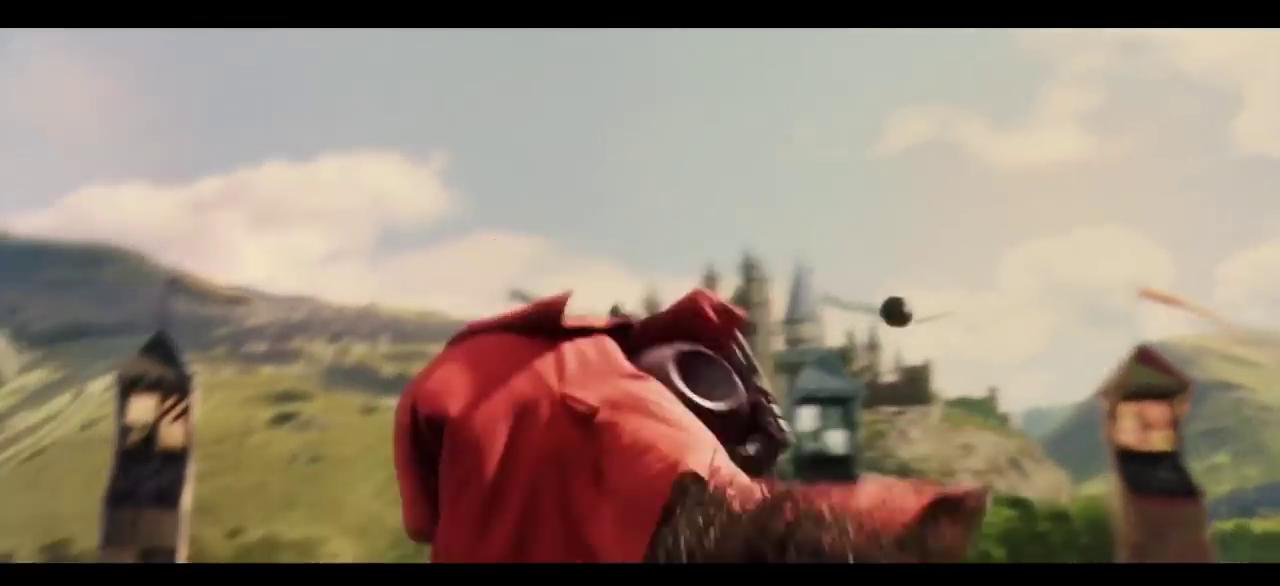bludger: (877, 292, 913, 330)
quaffle: (637, 342, 750, 444)
